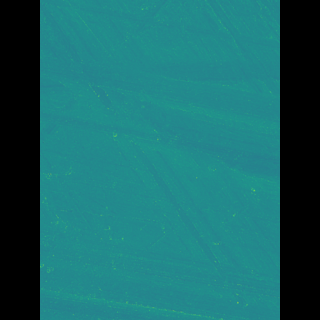Loch: (69, 3, 158, 269)
